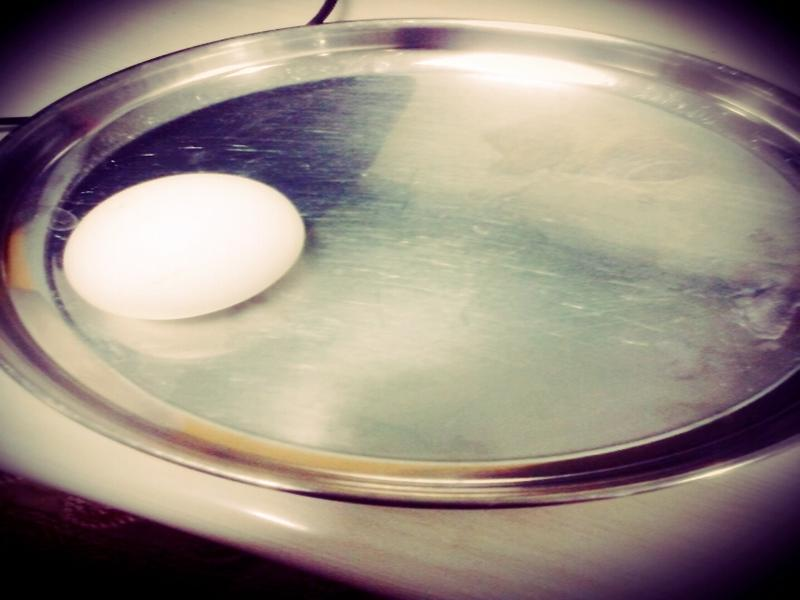egg: (60, 173, 299, 316)
